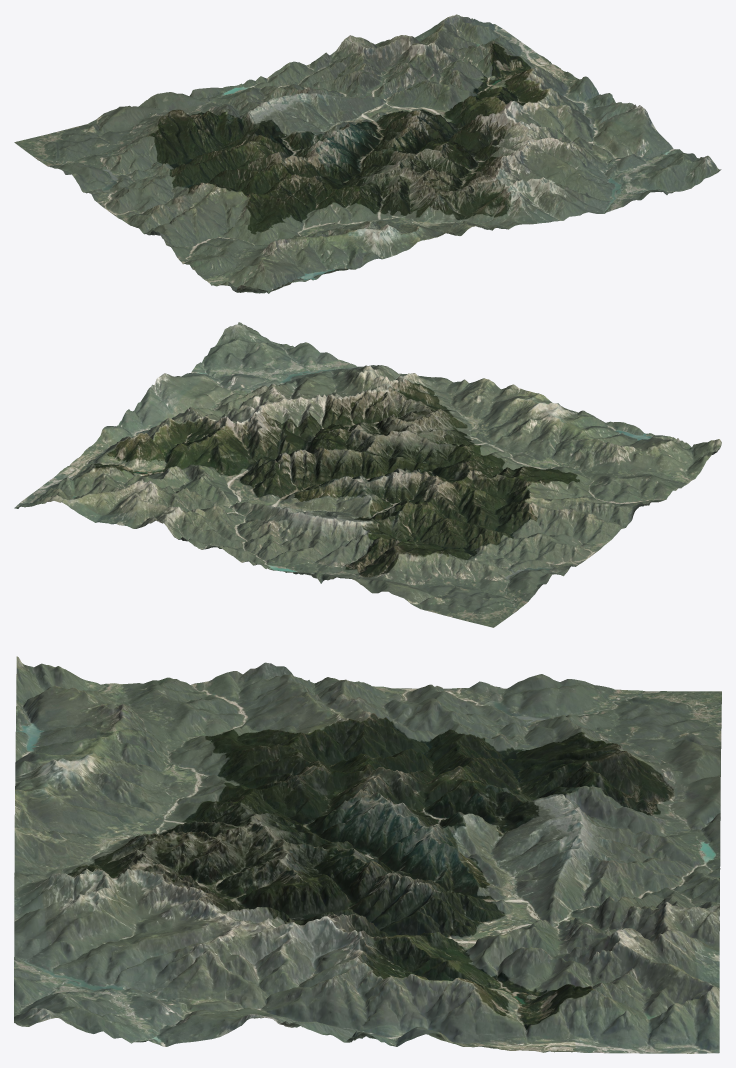
The model's file is terrain-pois.glb.
The picture shows the model from 3 angles, top to bottom: view 1: azimuth 30°, elevation 25°; view 2: azimuth 150°, elevation 25°; view 3: azimuth 270°, elevation 25°; orthographic projection. The views are drawn at different scales.
Visible parts, largest first — view 1: TerrainNode; view 2: TerrainNode; view 3: TerrainNode.
Part boxes in pixels (box(x1,y1,x2,y2)): TerrainNode: box(14, 14, 721, 293); TerrainNode: box(14, 322, 721, 627); TerrainNode: box(14, 656, 721, 1053).
Bounding box in the file's own units: 5.49 × 0.3681 × 4.47.
1 material, 1 textured.
